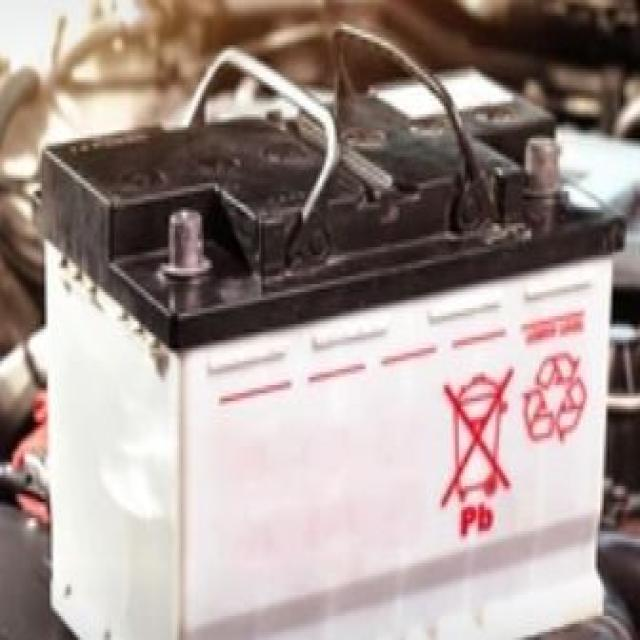electronic: (14, 72, 628, 640)
